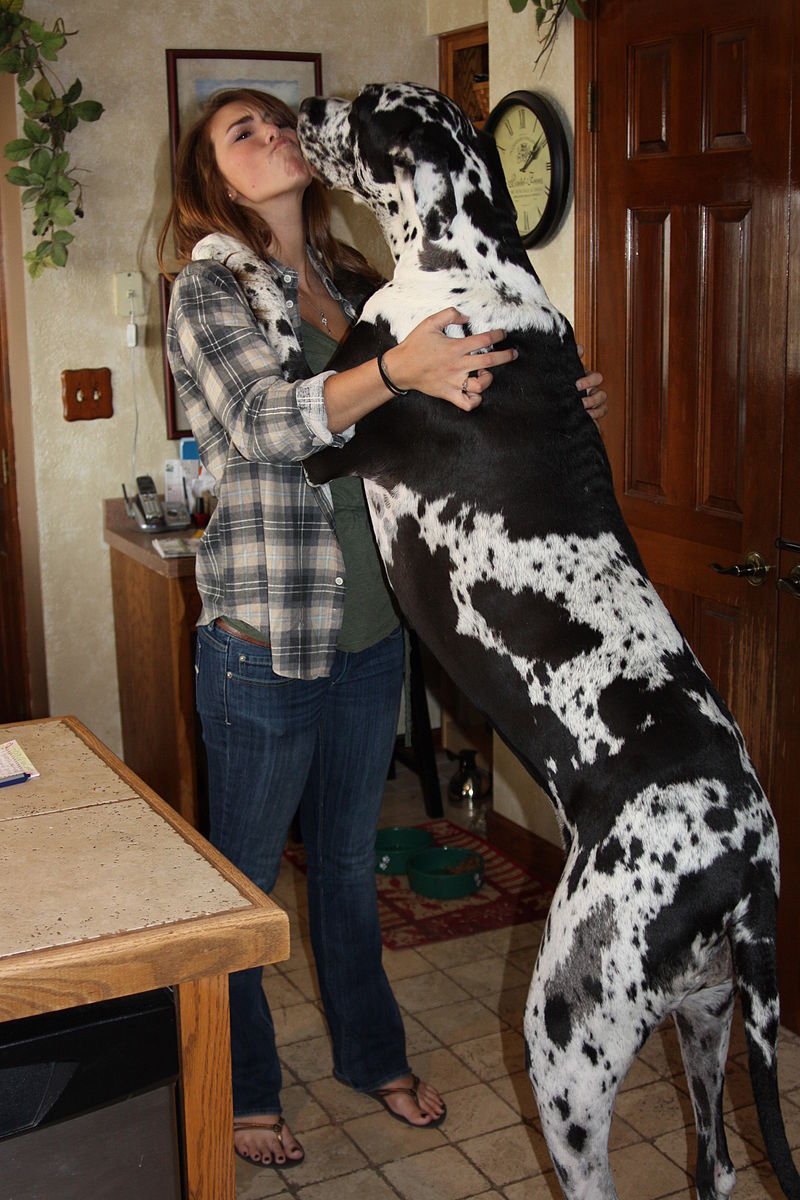Dog: (287, 64, 800, 1200)
Person: (154, 61, 506, 1168)
